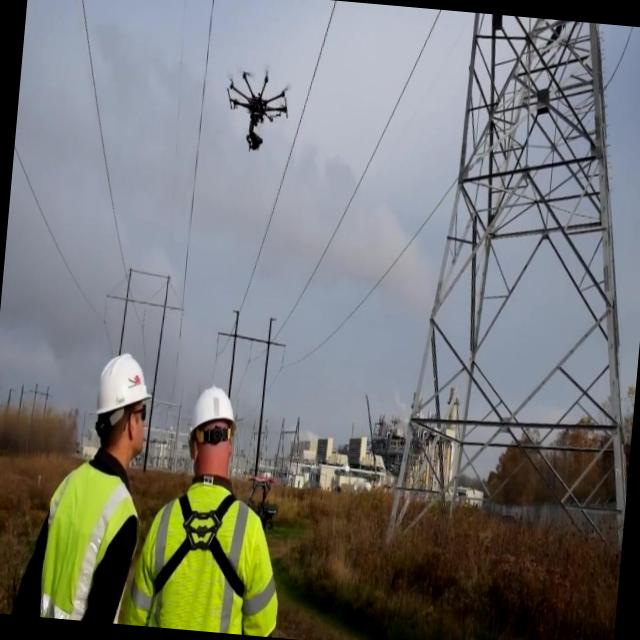drone: (220, 64, 292, 162)
